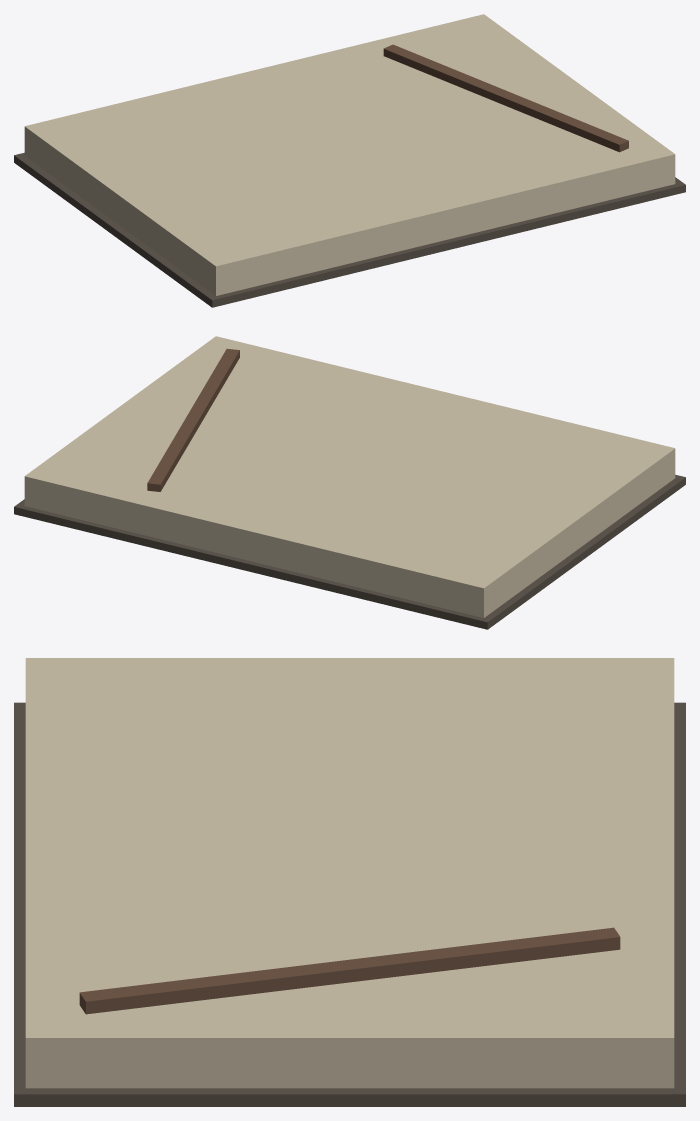
The model's file is kitchen-notebook.glb.
3 views of the same model, one above another, from view 1: azimuth 30°, elevation 25°; view 2: azimuth 150°, elevation 25°; view 3: azimuth 270°, elevation 25° (orthographic). The views are drawn at different scales.
Parts seen in each view (by area): view 1: paper, fabric, wood; view 2: paper, fabric, wood; view 3: paper, fabric, wood.
Part boxes in pixels (left/top/right/bottom): paper: left=24, top=14, right=675, bottom=295; fabric: left=14, top=152, right=685, bottom=307; wood: left=383, top=44, right=628, bottom=152; paper: left=24, top=336, right=675, bottom=617; fabric: left=14, top=474, right=685, bottom=629; wood: left=147, top=348, right=239, bottom=491; paper: left=25, top=658, right=674, bottom=1088; fabric: left=14, top=702, right=685, bottom=1106; wood: left=79, top=927, right=620, bottom=1014.
Bounding box in the file's own units: 0.2 × 0.018 × 0.145.
